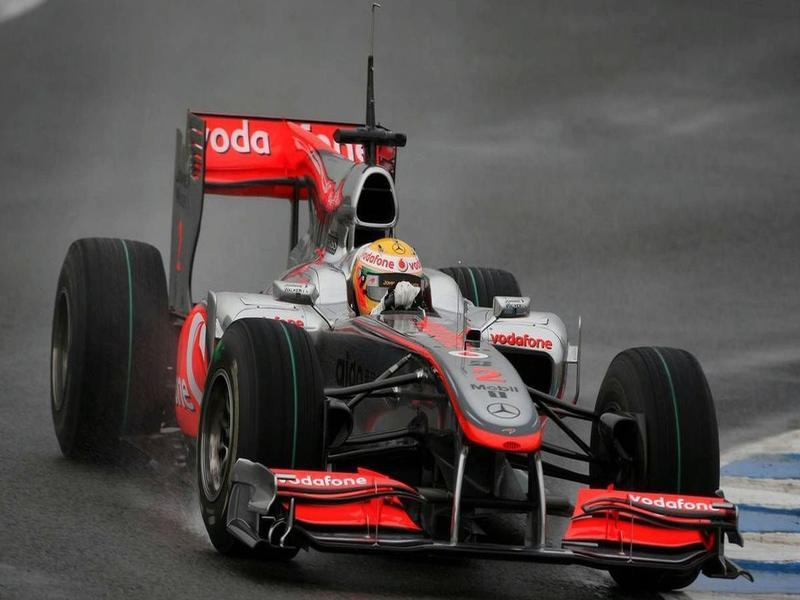f1: (52, 101, 752, 584)
